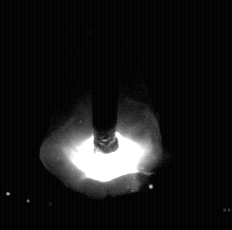arame: (93, 0, 119, 153)
poca: (38, 0, 162, 230)
